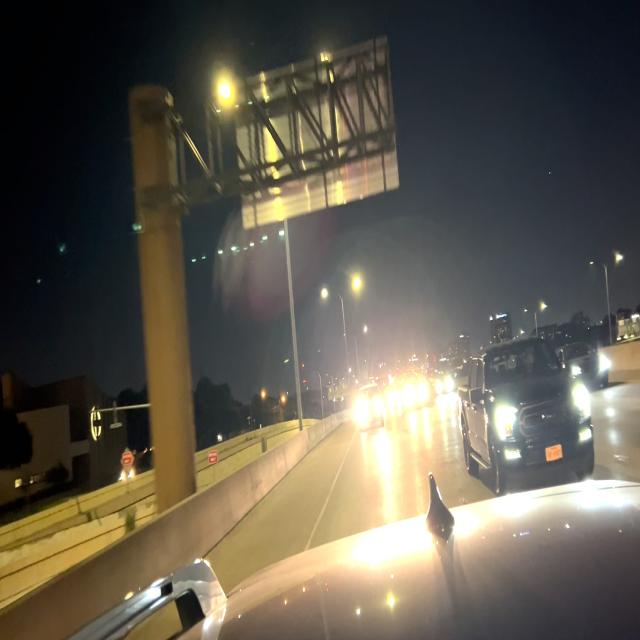back-of-sign: (232, 37, 400, 232)
